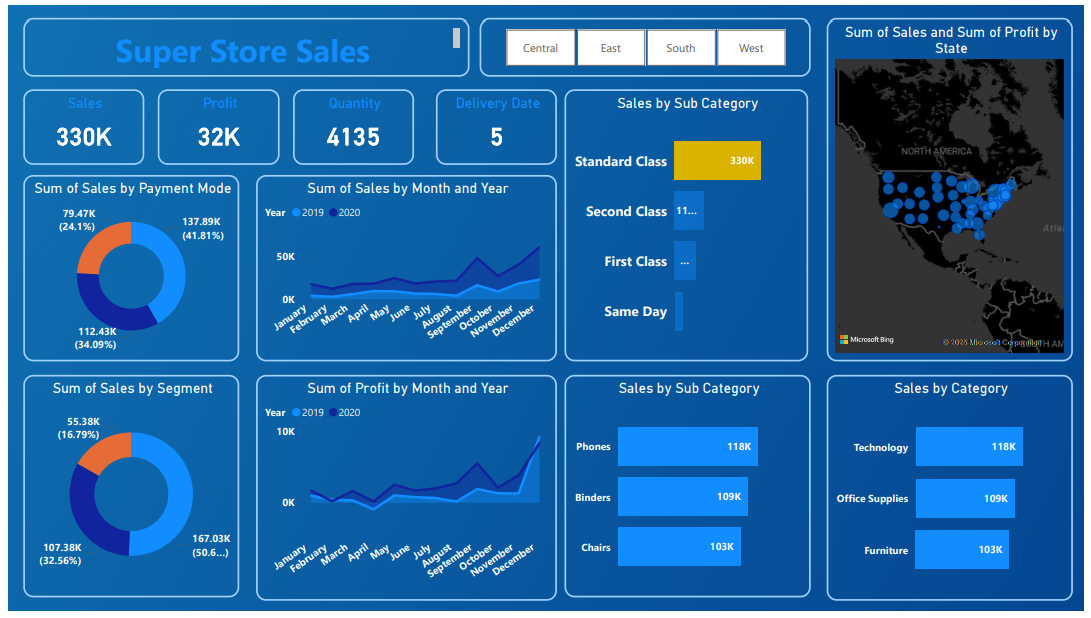

Layout of this report page (visuals, bound fields, positions):
{"tool":"powerbi","page":{"name":"Page 2","canvas":[1280,720],"ordinal":0},"visuals":[{"type":"clusteredBarChart","title":"Sales by Category","fields":{"Category":["SuperStore_Sales_Dataset.Category"],"Y":["Sum(SuperStore_Sales_Dataset.Sales)"]},"box":[974,438.6,293.2,269],"z":0},{"type":"clusteredBarChart","title":"Sales by  Sub Category","fields":{"Category":["SuperStore_Sales_Dataset.Sub-Category"],"Y":["Sum(SuperStore_Sales_Dataset.Sales)"]},"box":[661.7,438.6,293.2,265.2],"z":1000},{"type":"clusteredBarChart","title":"Sales by  Sub Category","fields":{"Category":["SuperStore_Sales_Dataset.Ship Mode"],"Y":["Sum(SuperStore_Sales_Dataset.Sales)"]},"box":[661.7,99.4,290.7,323.8],"z":2000},{"type":"stackedAreaChart","fields":{"Category":["SuperStore_Sales_Dataset.Order Date.Variation.Date Hierarchy.Month","SuperStore_Sales_Dataset.Order Date.Variation.Date Hierarchy.Day"],"Y":["Sum(SuperStore_Sales_Dataset.Sales)"],"Series":["SuperStore_Sales_Dataset.Order Date.Variation.Date Hierarchy.Year"]},"box":[294.5,201.4,358.2,221.8],"z":3000},{"type":"stackedAreaChart","fields":{"Category":["SuperStore_Sales_Dataset.Order Date.Variation.Date Hierarchy.Month","SuperStore_Sales_Dataset.Order Date.Variation.Date Hierarchy.Day"],"Series":["SuperStore_Sales_Dataset.Order Date.Variation.Date Hierarchy.Year"],"Y":["Sum(SuperStore_Sales_Dataset.Profit)"]},"box":[294.5,438.6,358.2,269],"z":4000},{"type":"map","title":"Sum of Sales and Sum of Profit by State","fields":{"Category":["SuperStore_Sales_Dataset.State"],"Size":["Sum(SuperStore_Sales_Dataset.Profit)"]},"box":[974,15.3,293.2,408],"z":5000},{"type":"donutChart","fields":{"Category":["SuperStore_Sales_Dataset.Segment"],"Y":["Sum(SuperStore_Sales_Dataset.Sales)"]},"box":[17.8,438.6,257.5,265.2],"z":6000},{"type":"donutChart","fields":{"Category":["SuperStore_Sales_Dataset.Payment Mode"],"Y":["Sum(SuperStore_Sales_Dataset.Sales)"]},"box":[17.8,201.4,257.5,221.8],"z":7000},{"type":"slicer","fields":{"Values":["SuperStore_Sales_Dataset.Region"]},"box":[561,15.3,393.9,68.8],"z":8000},{"type":"textbox","box":[17.8,15.3,531.6,68.8],"z":9000},{"type":"card","title":"Sales","fields":{"Values":["Sum(SuperStore_Sales_Dataset.Sales)"]},"box":[17.8,99.4,144.1,89.2],"z":10000},{"type":"card","title":"Profit","fields":{"Values":["Sum(SuperStore_Sales_Dataset.Profit)"]},"box":[178.5,99.4,144.1,89.2],"z":11000},{"type":"card","title":"Quantity","fields":{"Values":["Sum(SuperStore_Sales_Dataset.Quantity)"]},"box":[339.1,99.4,144.1,89.2],"z":12000},{"type":"card","title":"Delivery Date","fields":{"Values":["Avg(SuperStore_Sales_Dataset.DeliveryRate)"]},"box":[508.7,99.4,144.1,89.2],"z":13000}]}

Visuals, with their boxes in screenshot pixels (x1, y1, x2, y2), scaled from the page's 1280x720 canvas onto the 1091x618 screenshot:
"Sales by Category" clusteredBarChart: left=830, top=376, right=1080, bottom=607
"Sales by  Sub Category" clusteredBarChart: left=564, top=376, right=814, bottom=604
"Sales by  Sub Category" clusteredBarChart: left=564, top=85, right=812, bottom=363
stackedAreaChart - SuperStore_Sales_Dataset.Order Date.Variation.Date Hierarchy.Month x SuperStore_Sales_Dataset.Order Date.Variation.Date Hierarchy.Day: left=251, top=173, right=556, bottom=363
stackedAreaChart - SuperStore_Sales_Dataset.Order Date.Variation.Date Hierarchy.Month x SuperStore_Sales_Dataset.Order Date.Variation.Date Hierarchy.Day: left=251, top=376, right=556, bottom=607
"Sum of Sales and Sum of Profit by State" map: left=830, top=13, right=1080, bottom=363
donutChart - SuperStore_Sales_Dataset.Segment x Sum(SuperStore_Sales_Dataset.Sales): left=15, top=376, right=235, bottom=604
donutChart - SuperStore_Sales_Dataset.Payment Mode x Sum(SuperStore_Sales_Dataset.Sales): left=15, top=173, right=235, bottom=363
slicer - SuperStore_Sales_Dataset.Region: left=478, top=13, right=814, bottom=72
textbox: left=15, top=13, right=468, bottom=72
"Sales" card: left=15, top=85, right=138, bottom=162
"Profit" card: left=152, top=85, right=275, bottom=162
"Quantity" card: left=289, top=85, right=412, bottom=162
"Delivery Date" card: left=434, top=85, right=556, bottom=162
